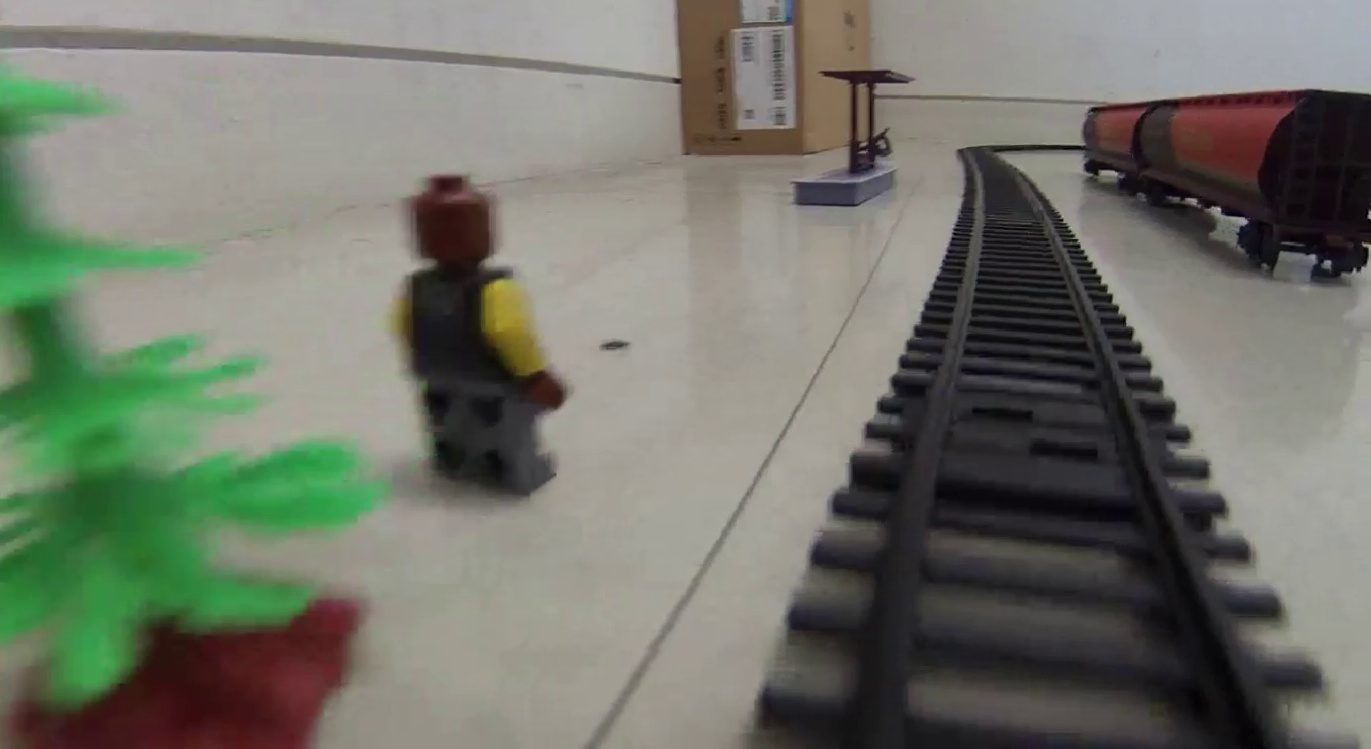people: (388, 176, 569, 500)
tree: (1, 59, 377, 746)
